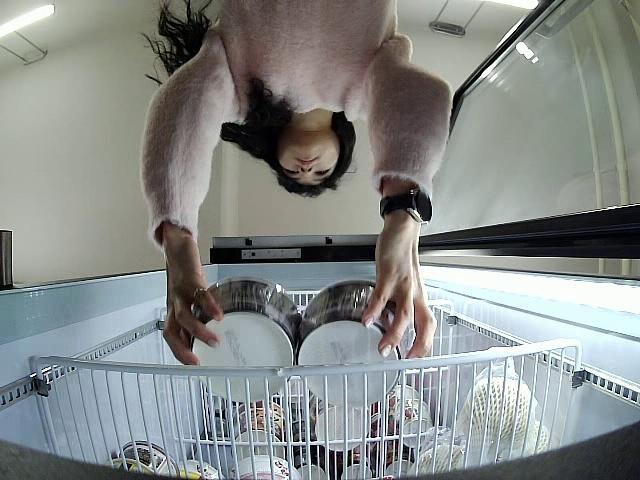07_buldak_L: (192, 278, 302, 404), (302, 277, 411, 402)
